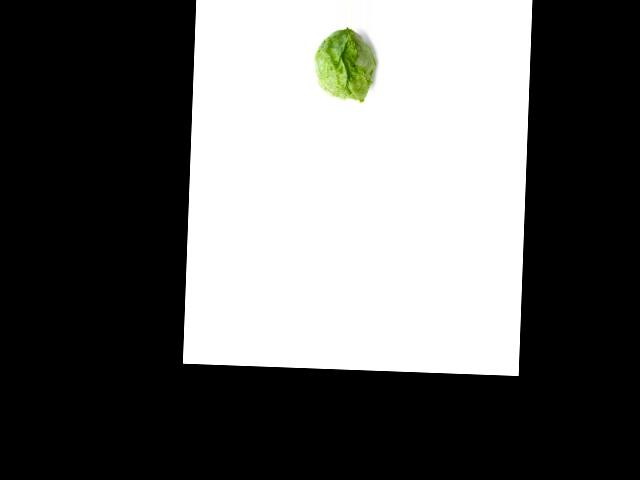lettuce: (308, 27, 381, 102)
